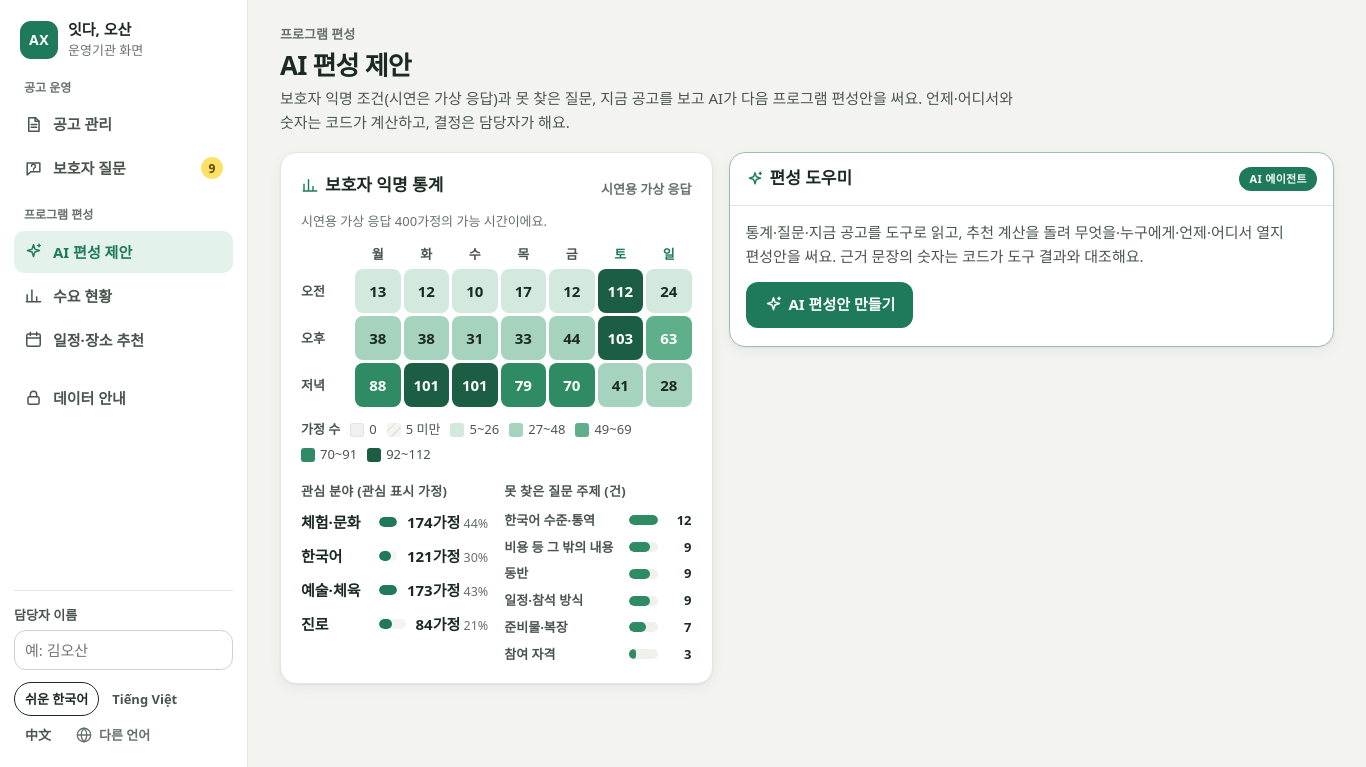
it: AI 편성 제안 › 실행 중에 다른 메뉴로 갔다 와도 실행이 끊기지 않고 결과가 남는다
Click the button "AI 편성안 만들기" at (829, 305), box [746,282,913,328]
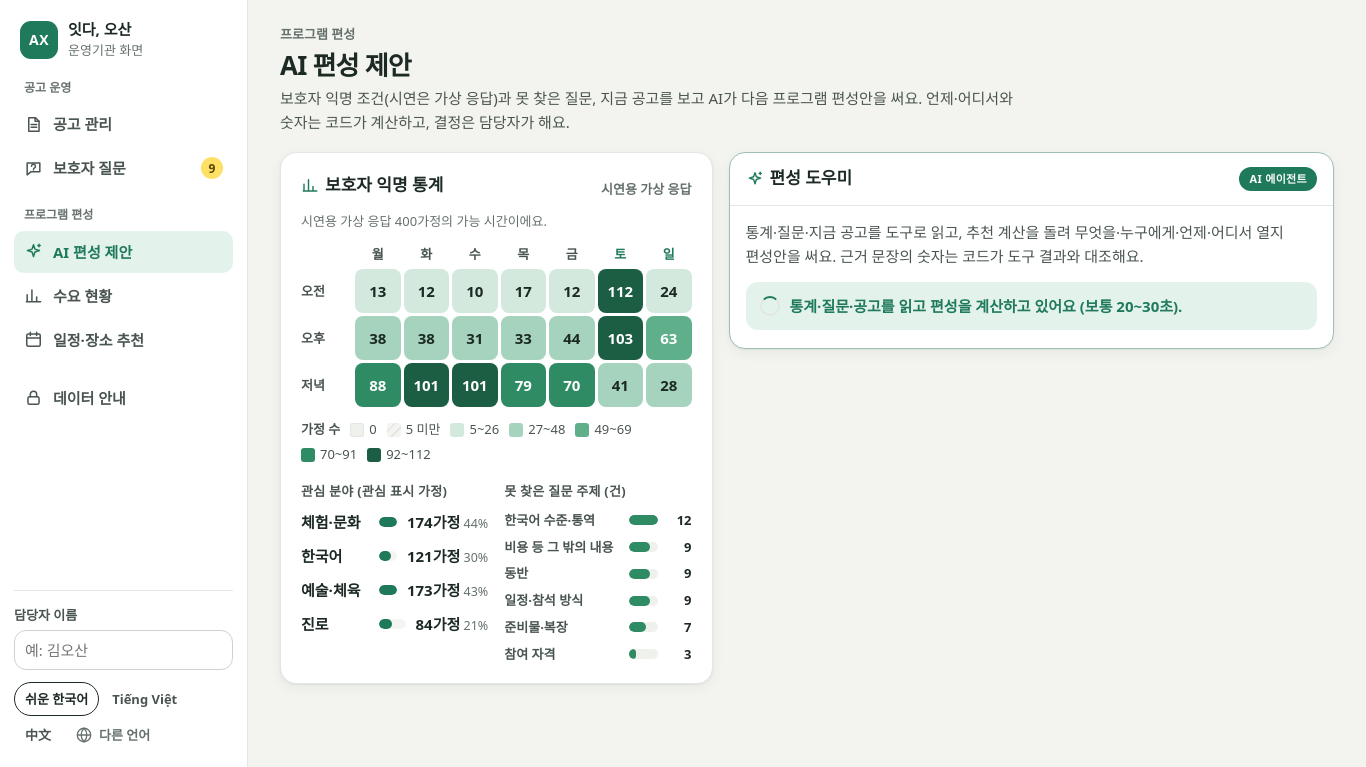
Expected: the text "통계·질문·공고를 읽고 편성을 계산하고 있어요 (보통 20~30초)." is shown, [746,282,1317,330]
Click the link "수요 현황" at (68, 296), box [24,286,112,306]
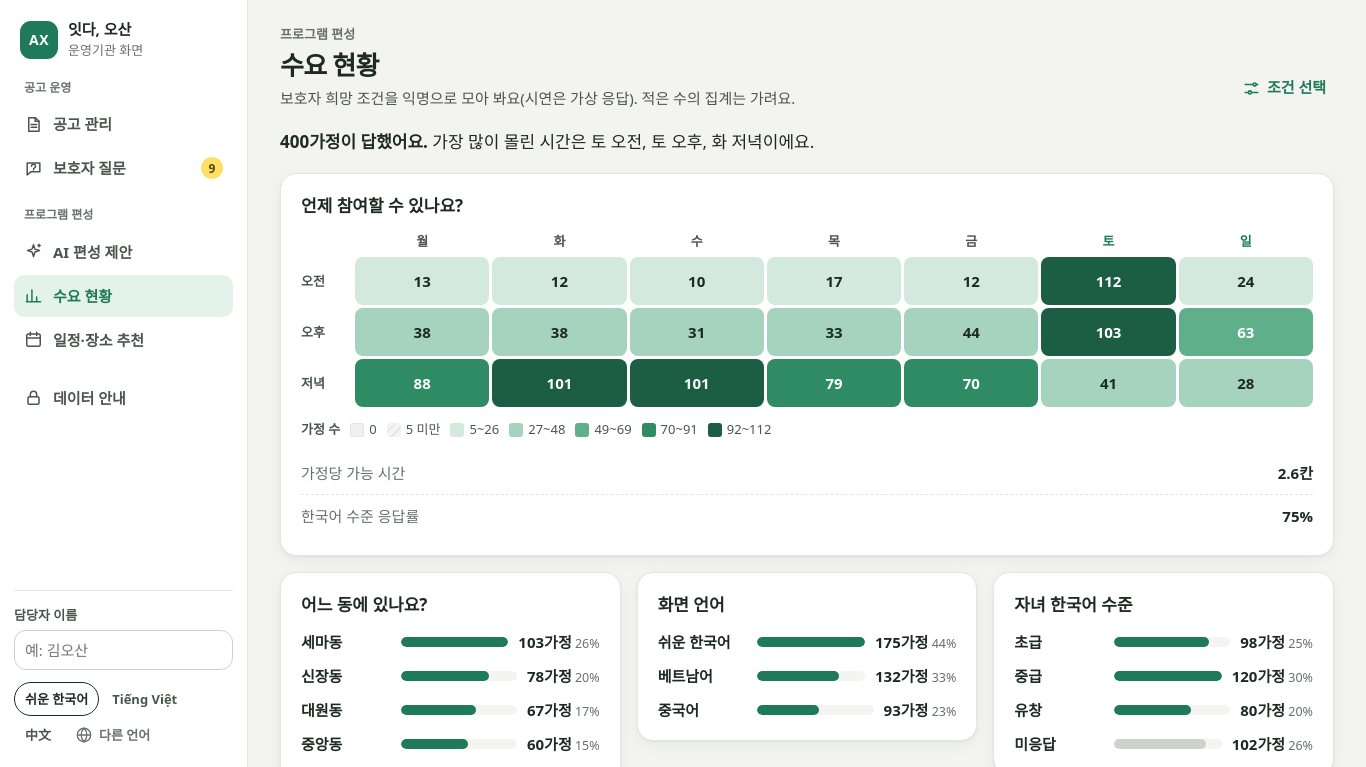
Click the link "AI 편성 제안" at (78, 252), box [24,242,132,262]
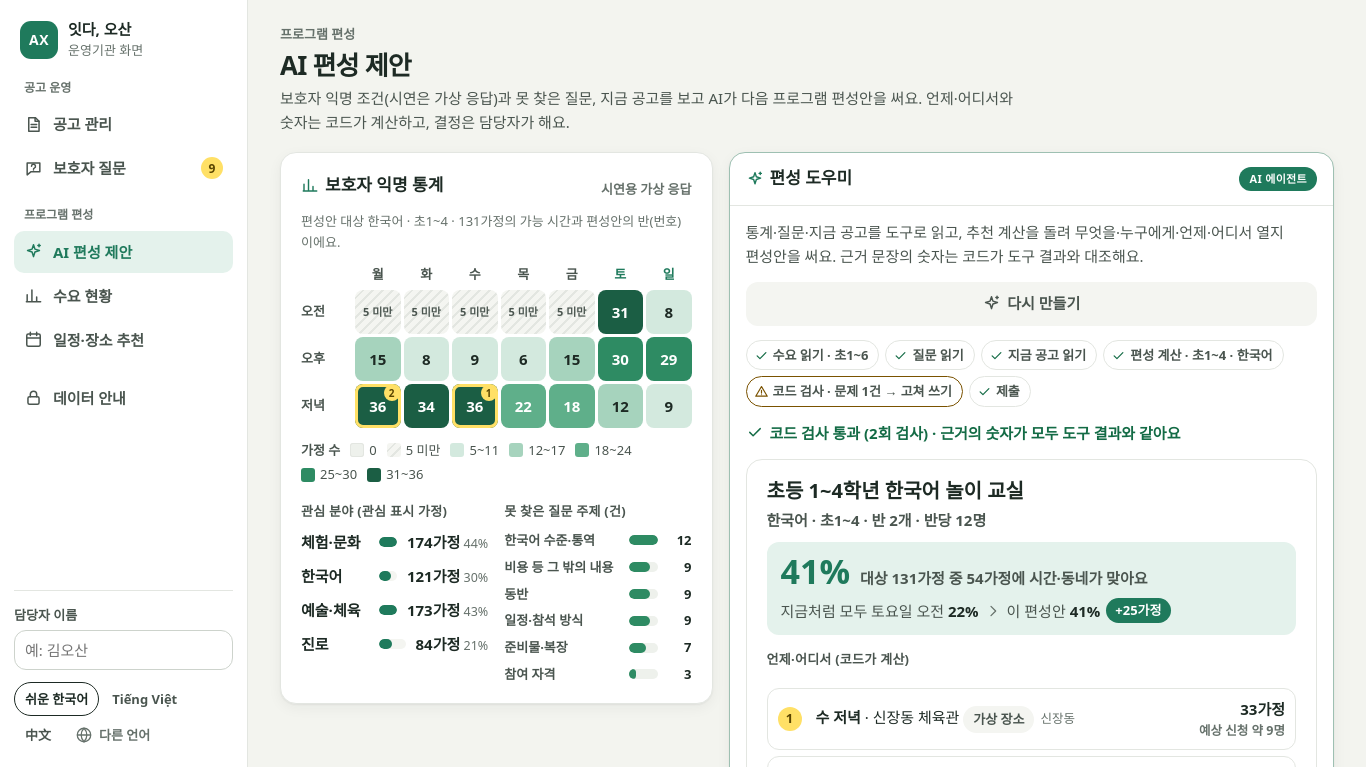
Expected: the heading "초등 1~4학년 한국어 놀이 교실" is shown, [766,477,1024,504]
